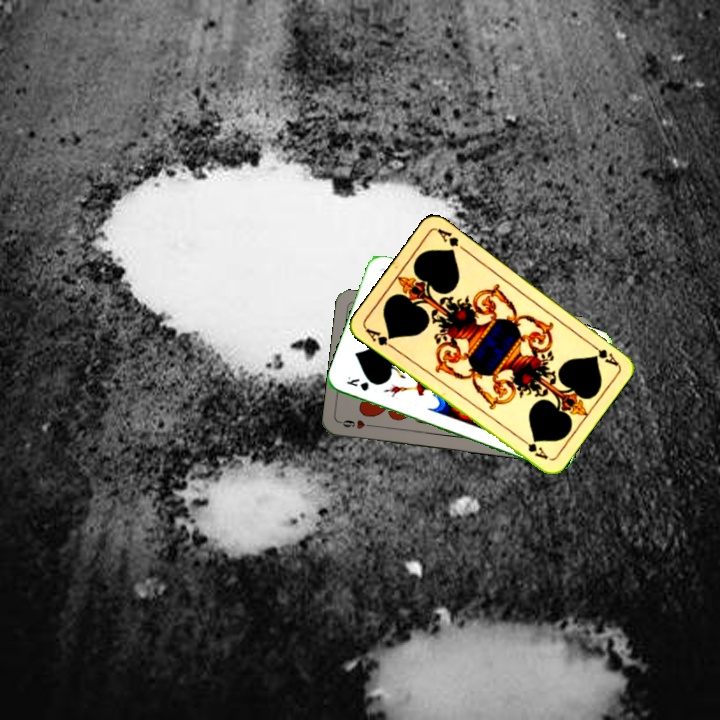GA: (585, 339, 621, 369), (361, 324, 398, 352)
GK: (342, 372, 371, 394)
H9: (336, 415, 377, 432)
